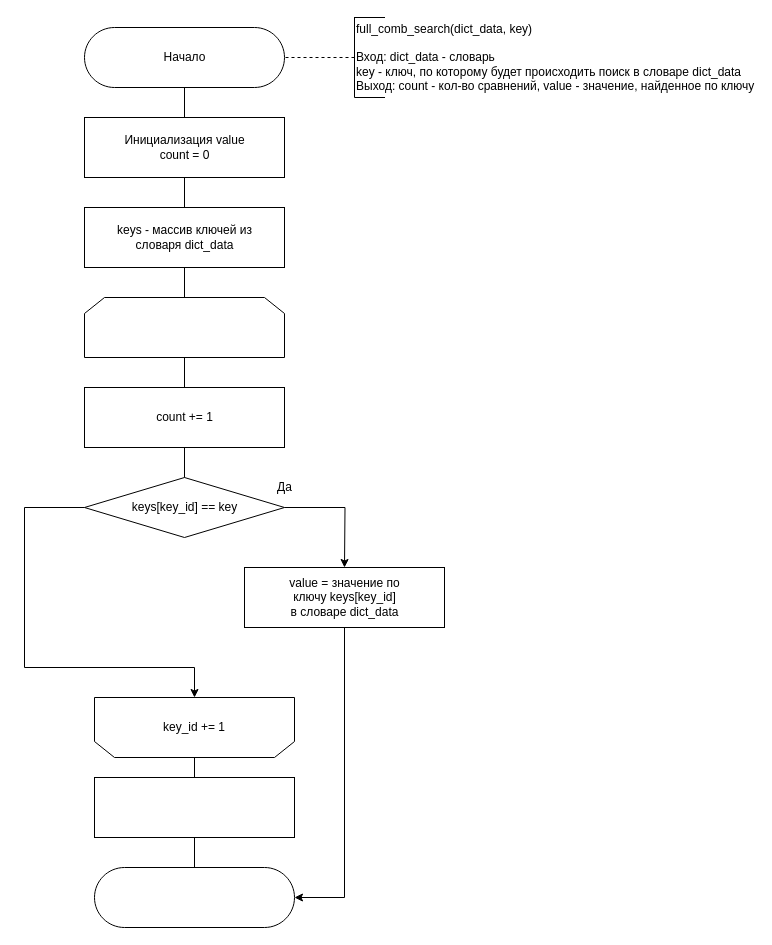
The diagram is 772 pixels wide and 945 high, and some of its shapes have lost their labels. Each missing label, with the centre of its shape:
"count = -1 (не найден ключ в словаре)" belongs at [194,807].
"Конец" belongs at [194,897].
"Цикл key_id от 0 до длина(keys)" belongs at [184,327].
